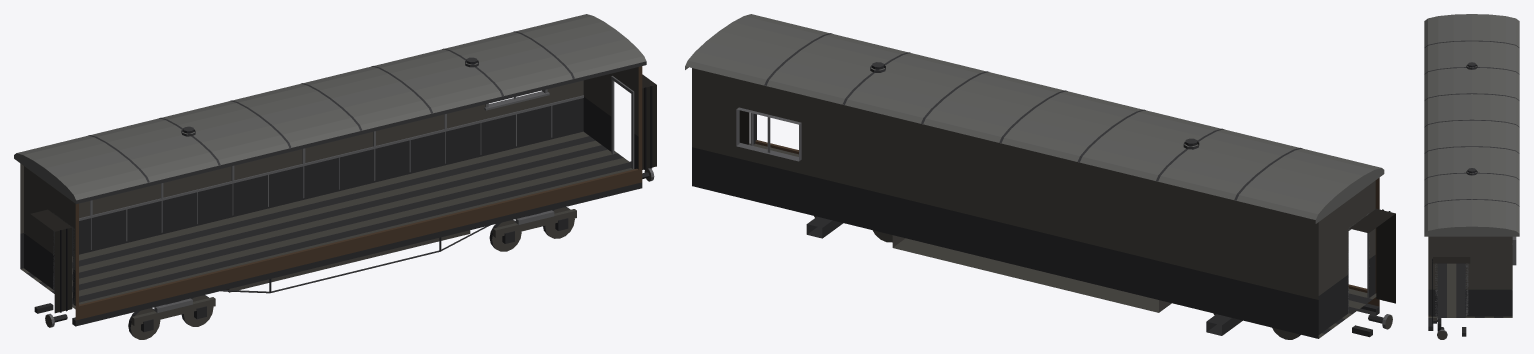
Rendered from shell_engine.glb.
The picture shows the model from 3 angles, left to right: view 1: azimuth 30°, elevation 25°; view 2: azimuth 150°, elevation 25°; view 3: azimuth 270°, elevation 25°; orthographic projection. The views are drawn at different scales.
Parts seen in each view (by area): view 1: shell_engine; view 2: shell_engine; view 3: shell_engine.
Boxes of the visible parts, box(x1,y1,x2,y2) form: shell_engine: box(14, 14, 656, 339); shell_engine: box(685, 14, 1395, 339); shell_engine: box(1424, 14, 1519, 339).
Size of the model in its own units: 17 by 4.81 by 3.04.
Materials: 1 (1 with a texture image).
